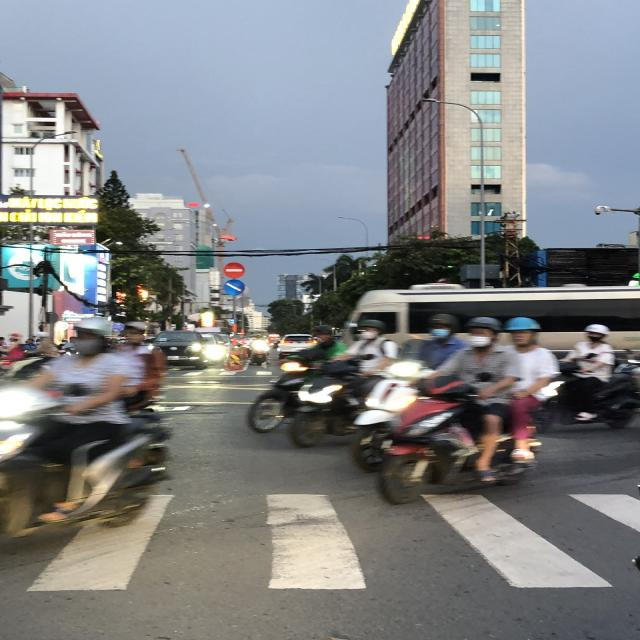Bien bao cam di nguoc chieu: (222, 259, 248, 279)
Bien bao huong phai di vong chuong ngai vat: (222, 278, 247, 298)
